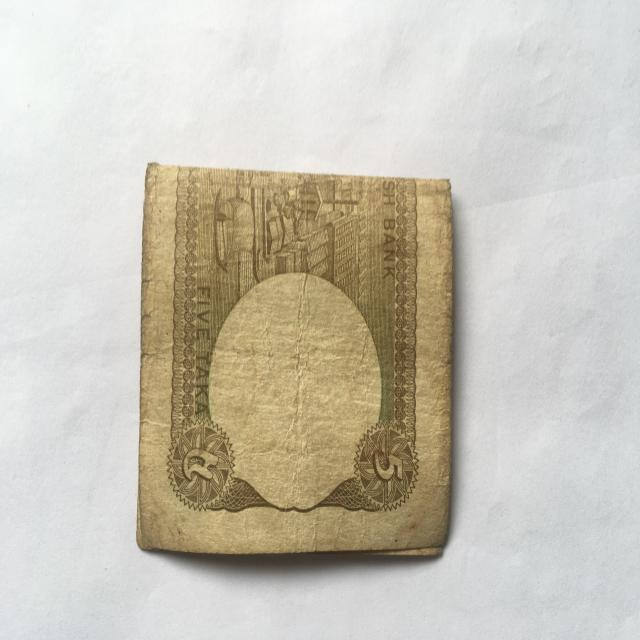Taka: (138, 152, 460, 568)
